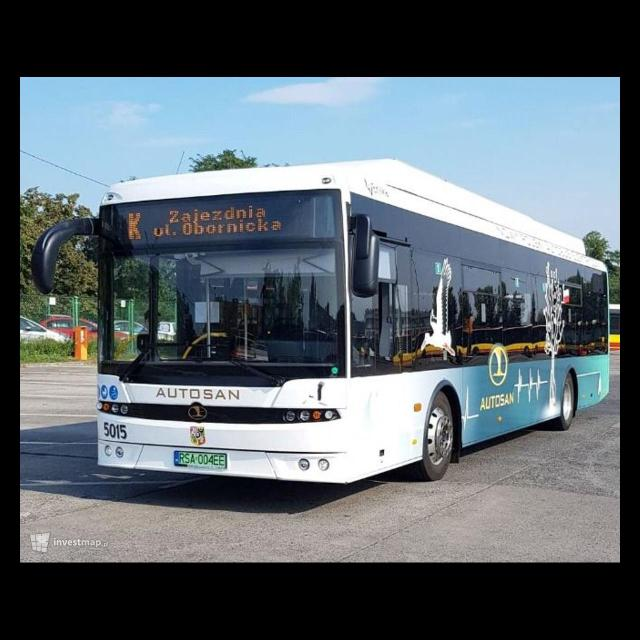Bus: (31, 159, 611, 483)
